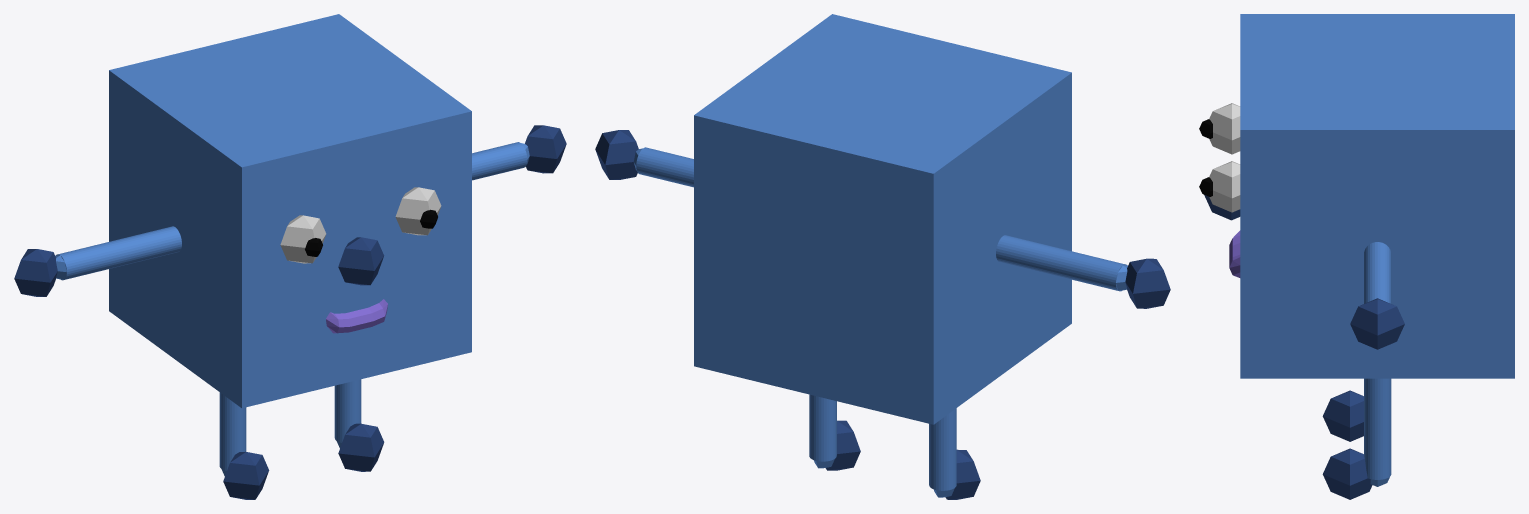
Rendered from character.dae.
3 views of the same model, side by side, from view 1: azimuth 30°, elevation 25°; view 2: azimuth 150°, elevation 25°; view 3: azimuth 270°, elevation 25° (orthographic). The views are drawn at different scales.
Parts seen in each view (by area): view 1: Body, LeftHand_002, LeftHand_001, Nose, LeftHand, LeftLowerArm, LeftUpperArm, RightHand, RightLowerArm, RightEye, LeftEye, LeftLowerArm_001 (+2 smaller); view 2: Body, LeftHand, LeftLowerArm, LeftLowerArm_001, LeftUpperArm, LeftLowerArm_002, RightHand, RightLowerArm, LeftHand_001, LeftHand_002; view 3: Body, RightHand, LeftHand_002, LeftLowerArm_002, LeftHand_001, LeftEye, RightEye, LeftUpperArm_002, RightUpperArm, RightLowerArm, RightPupil_002.
Part boxes in pixels (x1,y1,x2,y2): Body: (109,14,471,408); LeftHand_002: (338,423,384,471); LeftHand_001: (223,451,269,499); Nose: (338,237,384,285); LeftHand: (14,249,57,296); LeftLowerArm: (56,240,124,280); LeftUpperArm: (116,226,181,265); RightHand: (525,125,566,173); RightLowerArm: (472,142,527,180); RightEye: (395,187,441,235); LeftEye: (280,215,326,263); LeftLowerArm_001: (219,407,246,470); Body: (694,14,1071,424); LeftHand: (1125,258,1170,308); LeftLowerArm: (1056,250,1126,291); LeftLowerArm_001: (929,423,956,490); LeftUpperArm: (996,235,1064,276); LeftLowerArm_002: (809,394,836,461); RightHand: (595,130,638,179); RightLowerArm: (636,147,693,187); LeftHand_001: (945,449,980,499); LeftHand_002: (825,420,860,470); Body: (1240,14,1514,378); RightHand: (1350,298,1404,349); LeftHand_002: (1322,448,1372,499); LeftLowerArm_002: (1364,413,1391,479); LeftHand_001: (1322,390,1363,441); LeftEye: (1209,103,1240,154); RightEye: (1209,161,1240,212); LeftUpperArm_002: (1364,378,1391,417); RightUpperArm: (1364,242,1391,281); RightLowerArm: (1364,271,1391,303); RightPupil_002: (1229,230,1240,277).
Size of the model in its own units: 4.8 by 2.3 by 3.2.
